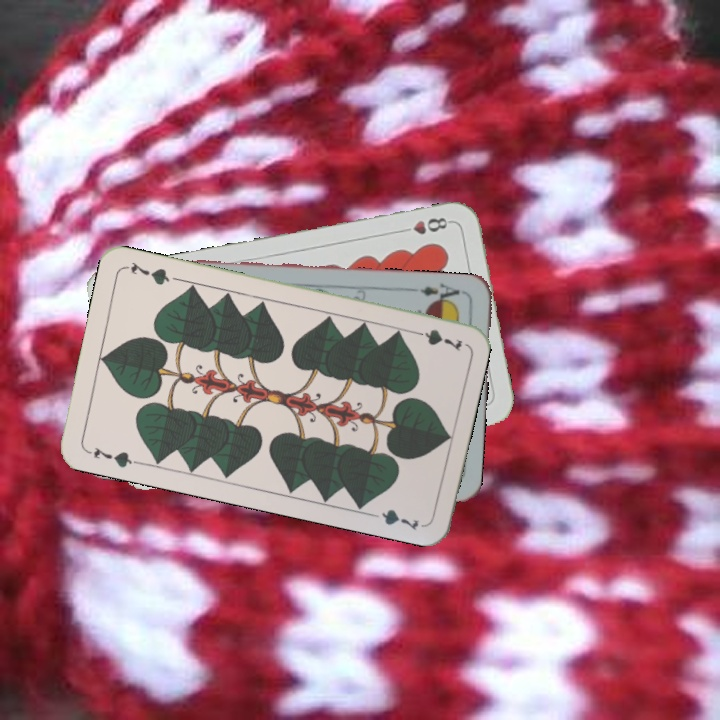EA: (416, 279, 467, 307)
G7: (406, 325, 465, 354), (83, 443, 141, 471)
H8: (395, 213, 454, 237)
